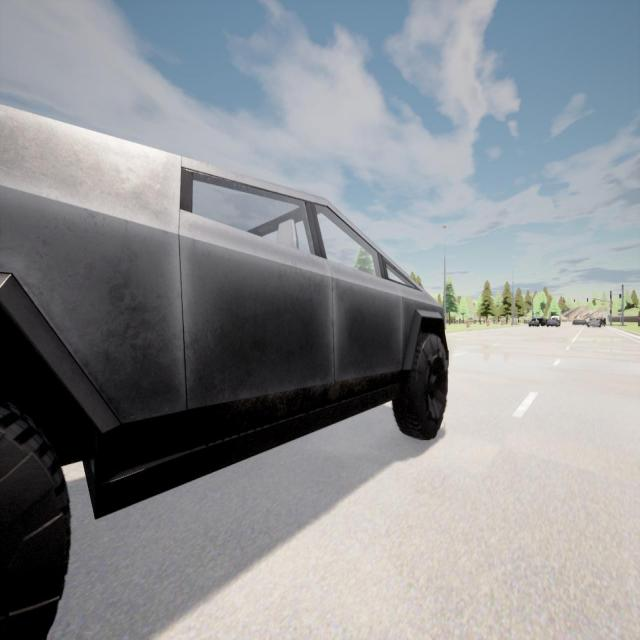Pedestrian: (603, 316, 606, 327)
Vehicle: (0, 108, 449, 637), (586, 317, 600, 328), (529, 318, 540, 328), (552, 315, 562, 325), (572, 319, 586, 326), (546, 320, 558, 328), (538, 317, 546, 326)
traffic_light: (563, 299, 565, 304), (610, 309, 611, 315), (620, 294, 621, 299), (587, 298, 588, 303), (574, 299, 575, 303)
